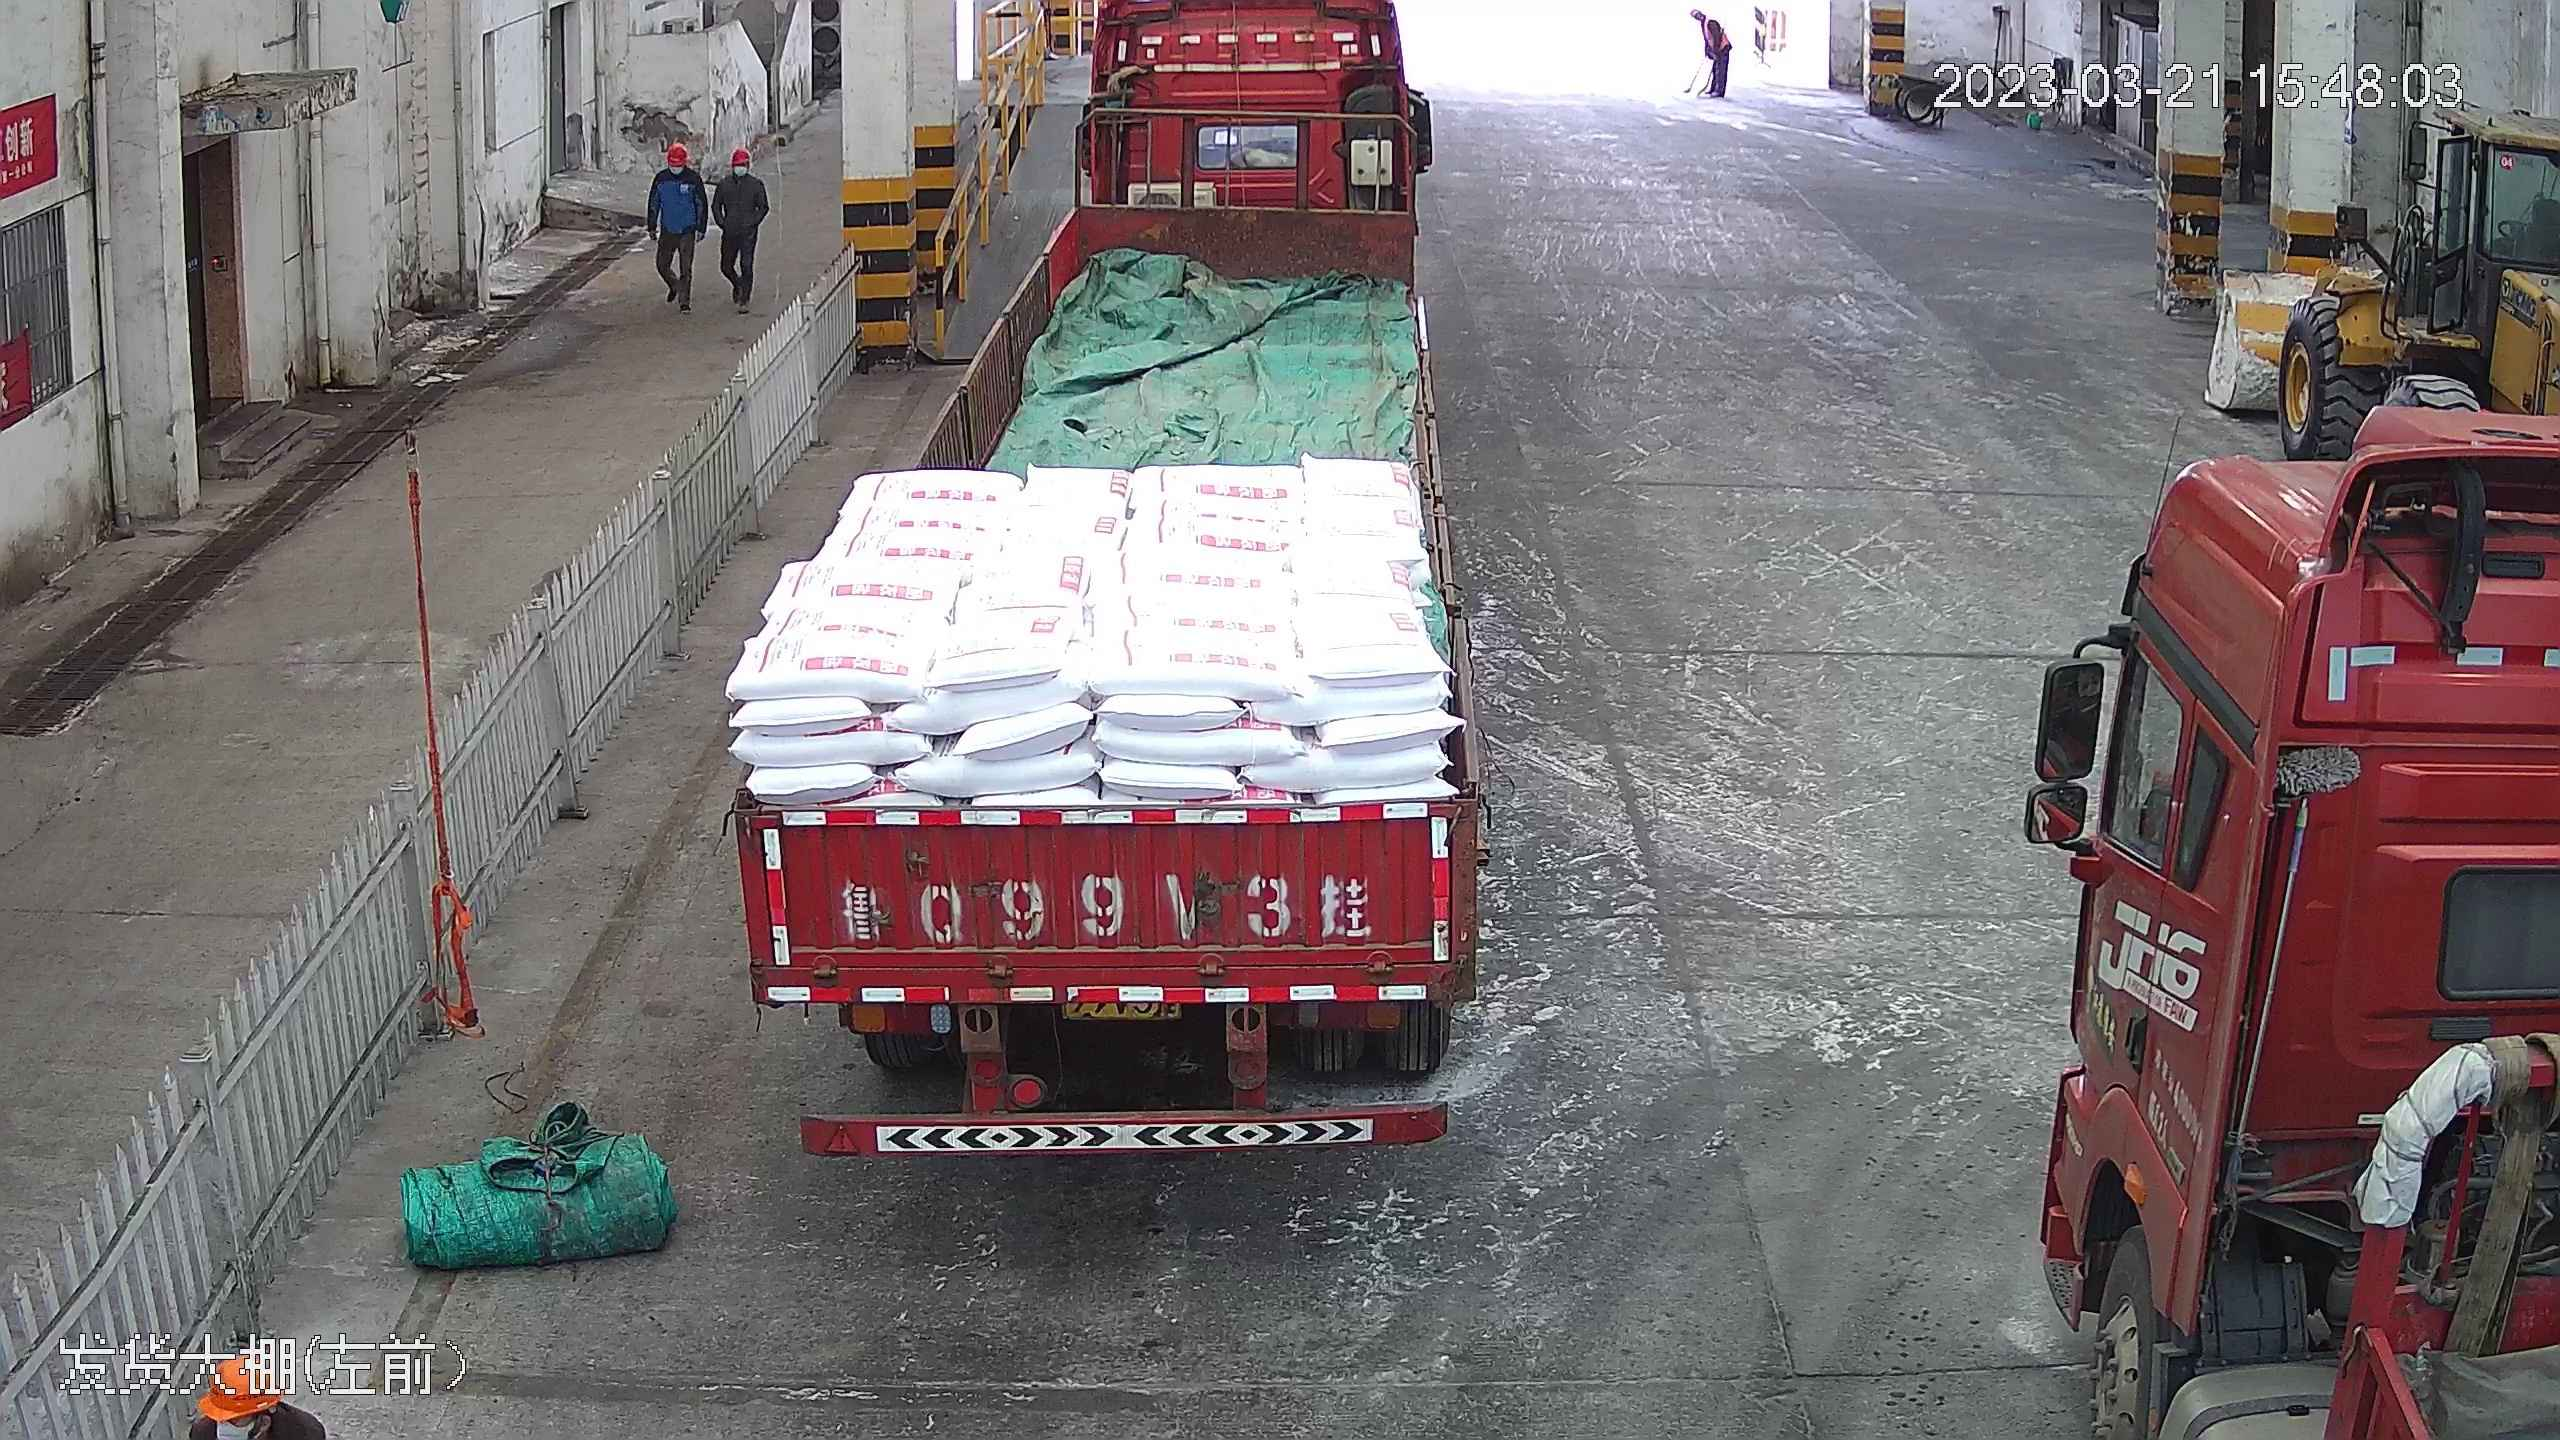head: (651, 140, 703, 198), (716, 142, 764, 196)
helmet: (662, 141, 692, 166), (727, 144, 754, 163)
people: (644, 135, 707, 318), (711, 140, 770, 313), (1687, 7, 1735, 107)
truck: (721, 1, 1498, 1158), (2023, 375, 2560, 1440)
